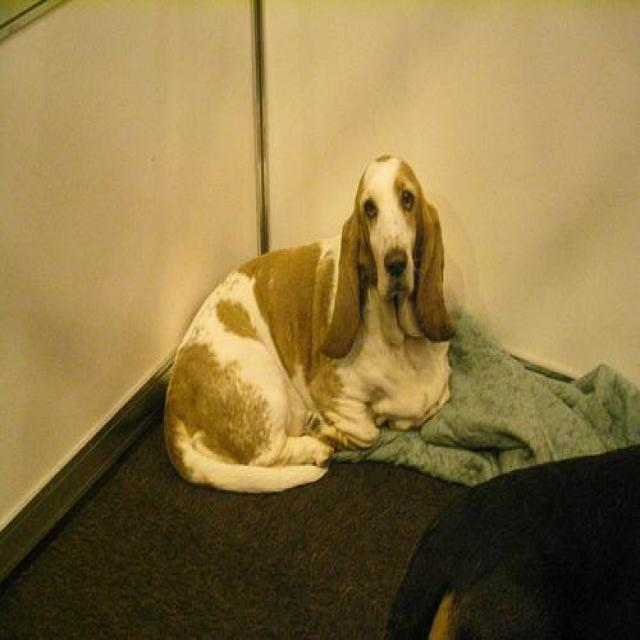basset: (164, 156, 453, 494)
